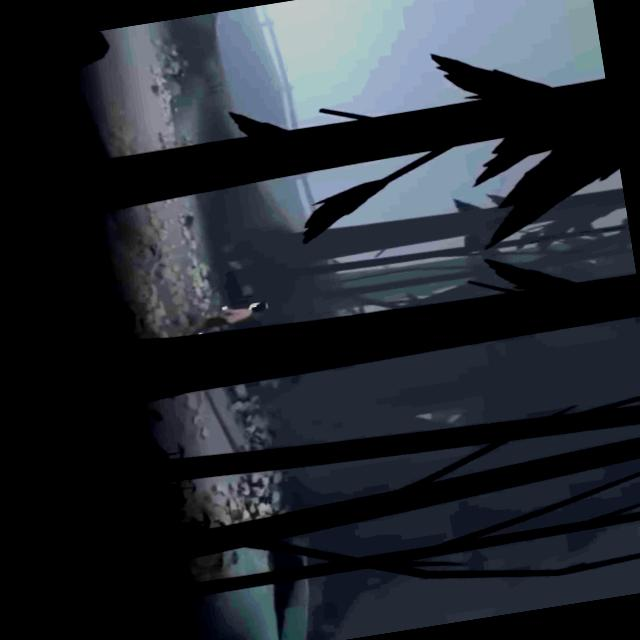boy: (196, 300, 270, 336)
